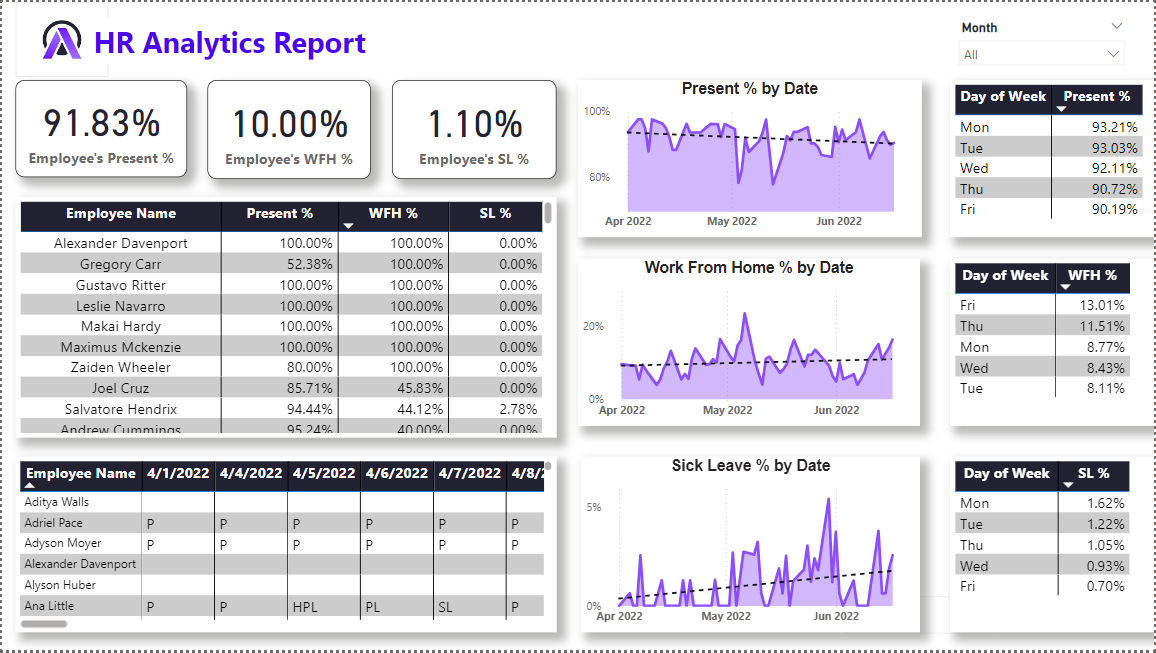

What the dashboard file says about the page in this screenshot:
{"tool":"powerbi","page":{"name":"Page 1","canvas":[1280,720],"ordinal":0},"visuals":[{"type":"card","fields":{"Values":["Base Measures.Employee's Present %"]},"box":[14.3,87.5,190.9,108.2],"z":0},{"type":"card","fields":{"Values":["Base Measures.Employee's WFH %"]},"box":[229,87.5,181.3,109.8],"z":1000},{"type":"card","fields":{"Values":["Base Measures.Employee's SL %"]},"box":[432.6,87.5,182.9,109.8],"z":2000},{"type":"slicer","fields":{"Values":["Final Data.Month"]},"box":[927.3,628.3,184.5,92.3],"z":3000},{"type":"tableEx","fields":{"Values":["Final Data.Name","Base Measures.Employee's Present %","Base Measures.Employee's WFH %","Base Measures.Employee's SL %"]},"box":[14.3,216.3,601.3,267.2],"z":4000},{"type":"pivotTable","fields":{"Rows":["Final Data.Name"],"Columns":["Final Data.Date"],"Values":["Final Data.Value"]},"box":[14.3,504.2,601.3,195.6],"z":5000},{"type":"areaChart","title":"Present % by Date","fields":{"Y":["Base Measures.Employee's Present %"],"Category":["Final Data.Date"]},"box":[639.4,87.5,381.7,175],"z":6000},{"type":"areaChart","title":"Work From Home % by Date","fields":{"Category":["Final Data.Date"],"Y":["Base Measures.Employee's WFH %"]},"box":[639.4,284.7,380.2,186.1],"z":7000},{"type":"areaChart","title":"Sick Leave % by Date","fields":{"Category":["Final Data.Date"],"Y":["Base Measures.Employee's SL %"]},"box":[642.6,504.2,377,195.6],"z":8000},{"type":"tableEx","fields":{"Values":["Final Data.Day of Week","Base Measures.Employee's Present %"]},"box":[1053,87.5,227.5,175],"z":9000},{"type":"tableEx","fields":{"Values":["Final Data.Day of Week","Base Measures.Employee's SL %"]},"box":[1053,504.2,227.5,195.6],"z":10000},{"type":"tableEx","fields":{"Values":["Final Data.Day of Week","Base Measures.Employee's WFH %"]},"box":[1053,284.7,227.5,186.1],"z":11000},{"type":"image","box":[15.1,0,103.9,83.2],"z":12000},{"type":"textbox","box":[97,15.9,380.2,52.5],"z":13000},{"type":"slicer","fields":{"Values":["Final Data.Month"]},"box":[1052.6,15.1,204.1,66.1],"z":14000}]}

Visuals, with their boxes in screenshot pixels (x1, y1, x2, y2), scaled from the page's 1280x720 canvas onto the 1156x653 screenshot:
card - Base Measures.Employee's Present %: (x1=13, y1=79, x2=185, y2=177)
card - Base Measures.Employee's WFH %: (x1=207, y1=79, x2=371, y2=179)
card - Base Measures.Employee's SL %: (x1=391, y1=79, x2=556, y2=179)
slicer - Final Data.Month: (x1=837, y1=570, x2=1004, y2=652)
tableEx - Final Data.Name x Base Measures.Employee's Present %: (x1=13, y1=196, x2=556, y2=439)
pivotTable - Final Data.Name x Final Data.Date: (x1=13, y1=457, x2=556, y2=635)
"Present % by Date" areaChart: (x1=577, y1=79, x2=922, y2=238)
"Work From Home % by Date" areaChart: (x1=577, y1=258, x2=921, y2=427)
"Sick Leave % by Date" areaChart: (x1=580, y1=457, x2=921, y2=635)
tableEx - Final Data.Day of Week x Base Measures.Employee's Present %: (x1=951, y1=79, x2=1155, y2=238)
tableEx - Final Data.Day of Week x Base Measures.Employee's SL %: (x1=951, y1=457, x2=1155, y2=635)
tableEx - Final Data.Day of Week x Base Measures.Employee's WFH %: (x1=951, y1=258, x2=1155, y2=427)
image: (x1=14, y1=0, x2=107, y2=75)
textbox: (x1=88, y1=14, x2=431, y2=62)
slicer - Final Data.Month: (x1=951, y1=14, x2=1135, y2=74)
